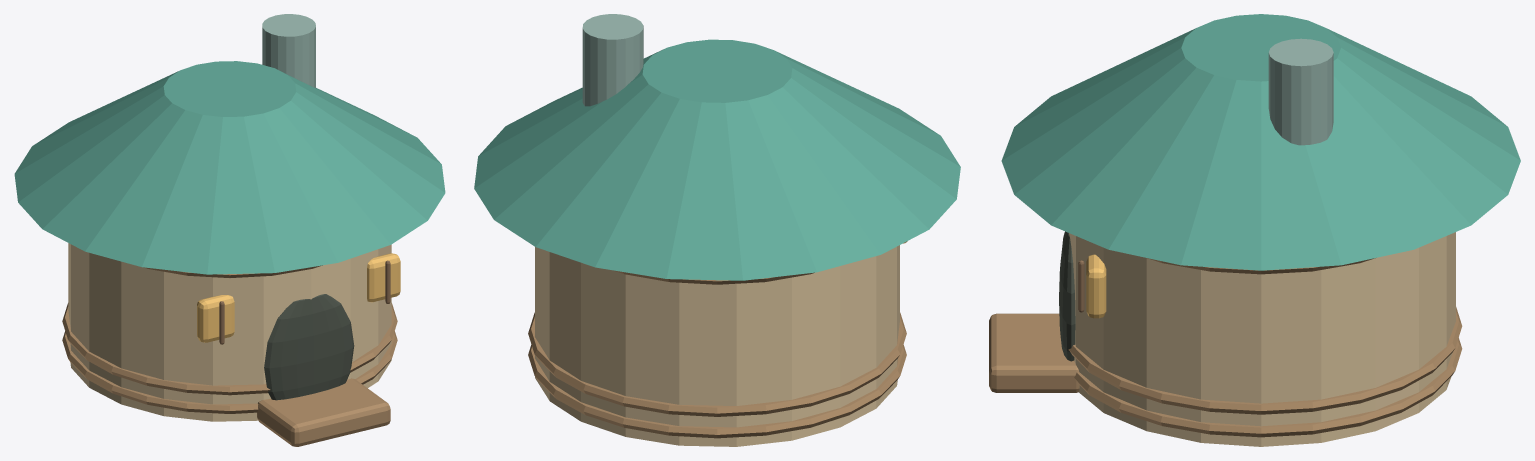
The model's file is shelter.glb.
3 views of the same model, side by side, from view 1: azimuth 30°, elevation 25°; view 2: azimuth 150°, elevation 25°; view 3: azimuth 270°, elevation 25° (orthographic). The views are drawn at different scales.
Parts seen in each view (by area): view 1: Toit en tissu, Boîte de conserve, Entrée, Marche, Cheminée en dé à coudre, Nervure.002, Nervure.001, Fenêtre, Fenêtre.001, Nervure.003; view 2: Toit en tissu, Boîte de conserve, Cheminée en dé à coudre, Nervure.002, Nervure.001, Nervure.003; view 3: Toit en tissu, Boîte de conserve, Cheminée en dé à coudre, Marche, Nervure.002, Nervure.001, Entrée, Fenêtre.001, Nervure.003.
Part boxes in pixels (box(x1,y1,x2,y2)): Toit en tissu: box(14, 61, 445, 274); Boîte de conserve: box(68, 243, 391, 421); Entrée: box(264, 294, 354, 400); Marche: box(257, 378, 390, 446); Cheminée en dé à coudre: box(262, 14, 315, 87); Nervure.002: box(62, 303, 397, 395); Nervure.001: box(62, 331, 397, 413); Fenêtre: box(197, 295, 234, 342); Fenêtre.001: box(367, 253, 400, 302); Nervure.003: box(143, 265, 322, 277); Toit en tissu: box(474, 39, 960, 280); Boîte de conserve: box(535, 245, 899, 446); Cheminée en dé à coudre: box(582, 14, 643, 106); Nervure.002: box(528, 312, 906, 416); Nervure.001: box(528, 345, 906, 438); Nervure.003: box(613, 270, 814, 284); Toit en tissu: box(1001, 14, 1520, 270); Boîte de conserve: box(1069, 232, 1455, 446); Cheminée en dé à coudre: box(1268, 38, 1333, 145); Marche: box(989, 313, 1079, 392); Nervure.002: box(1068, 307, 1462, 414); Nervure.001: box(1074, 338, 1462, 437); Entrée: box(1059, 231, 1075, 361); Fenêtre.001: box(1086, 254, 1106, 318); Nervure.003: box(1147, 258, 1375, 274).
Bounding box in the file's own units: 2.08 × 1.62 × 2.13.
